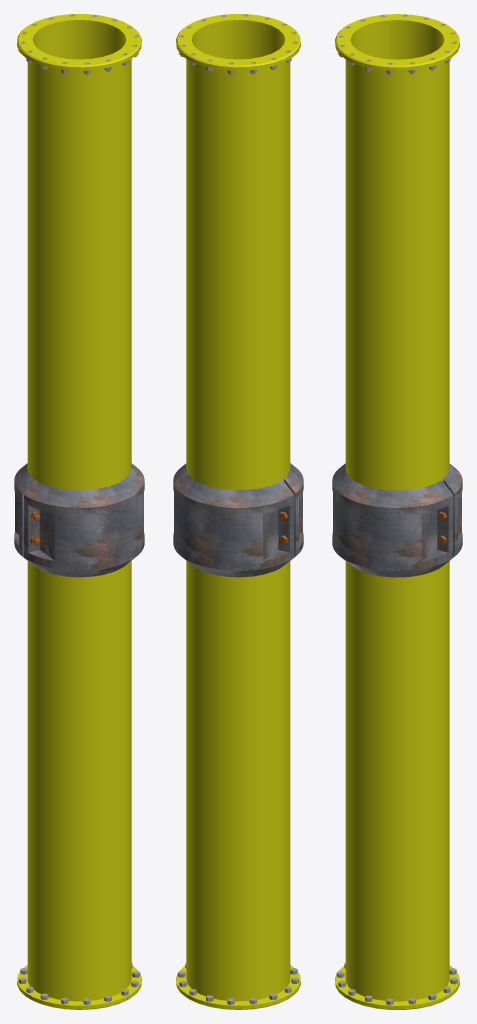
File: pipe_with_anode.obj
The picture shows the model from 3 angles, left to right: view 1: azimuth 30°, elevation 25°; view 2: azimuth 150°, elevation 25°; view 3: azimuth 330°, elevation 25°; orthographic projection.
Parts seen in each view (by area): view 1: pipe, anodeA, anodeB, bolts; view 2: pipe, anodeB, anodeA, bolts; view 3: pipe, anodeA, anodeB, bolts.
Part boxes in pixels (box(x1,y1,x2,y2)): pipe: box(17, 14, 141, 1009); anodeA: box(24, 463, 144, 577); anodeB: box(14, 463, 33, 565); bolts: box(18, 15, 140, 1004); pipe: box(176, 14, 300, 1009); anodeB: box(173, 463, 293, 577); anodeA: box(284, 463, 303, 565); bolts: box(177, 15, 299, 1004); pipe: box(335, 14, 459, 1009); anodeA: box(332, 463, 452, 577); anodeB: box(443, 464, 462, 562); bolts: box(336, 15, 458, 1005).
Bounding box in the file's own units: 1.25 × 10 × 1.25.
Materials: 4 (3 with a texture image).
